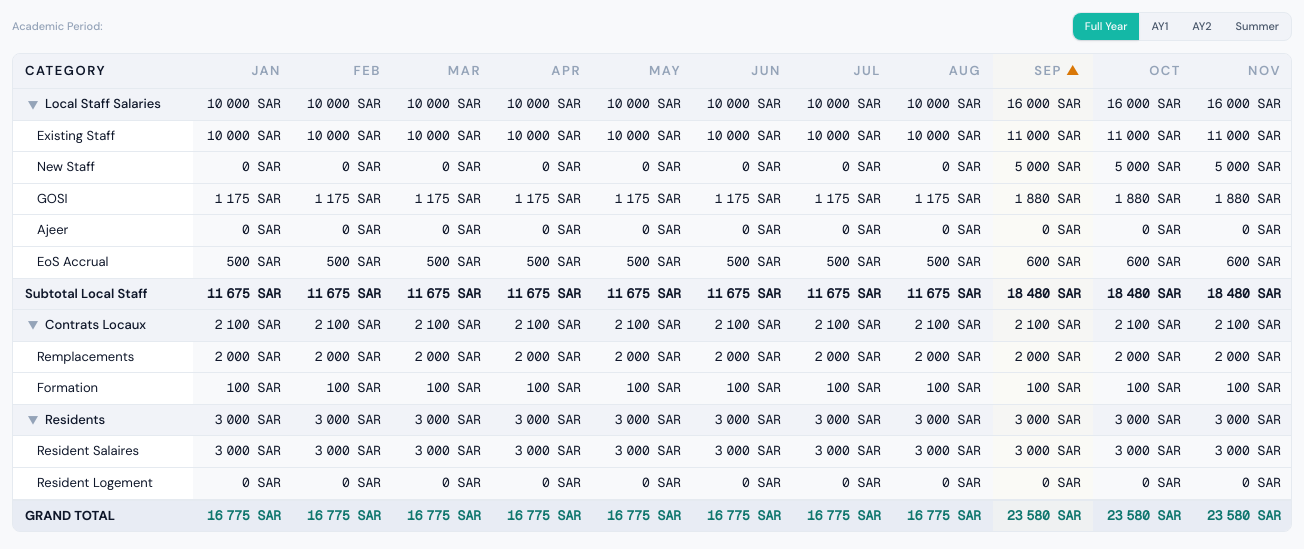
Test: MonthlyCostBudgetGrid › AC-03: Academic period filter › shows only Jan-Jun when AY1 is selected
Click the radio button "AY1" at (1160, 26), box [1139,13,1180,40]
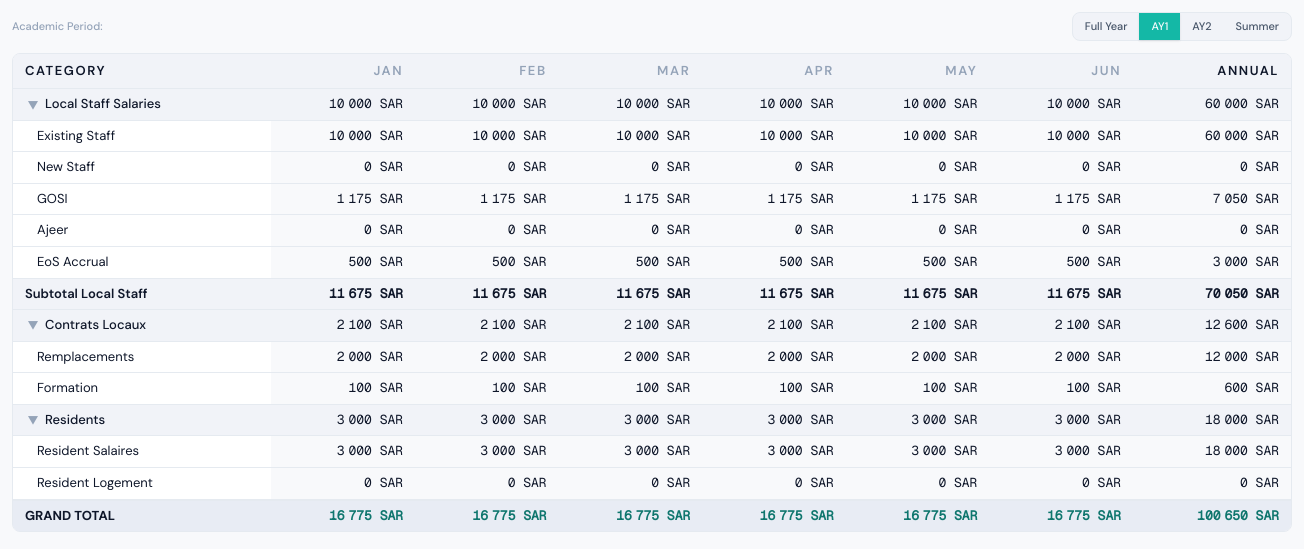
Check: the text "Jan" is shown, box [374,62,403,80]
Check: the text "Jul" is gone
Check: the text "Sep" is gone
